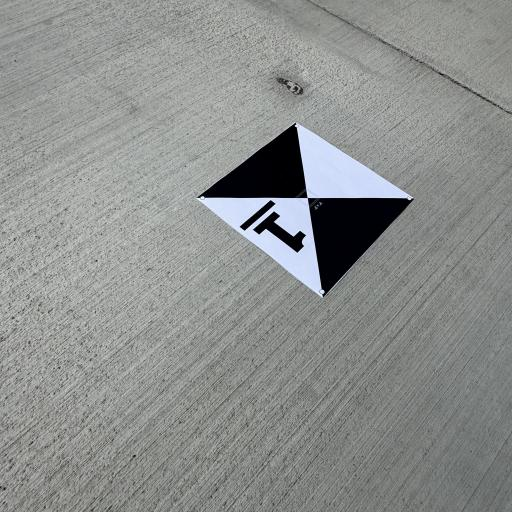target1: (190, 118, 418, 307)
